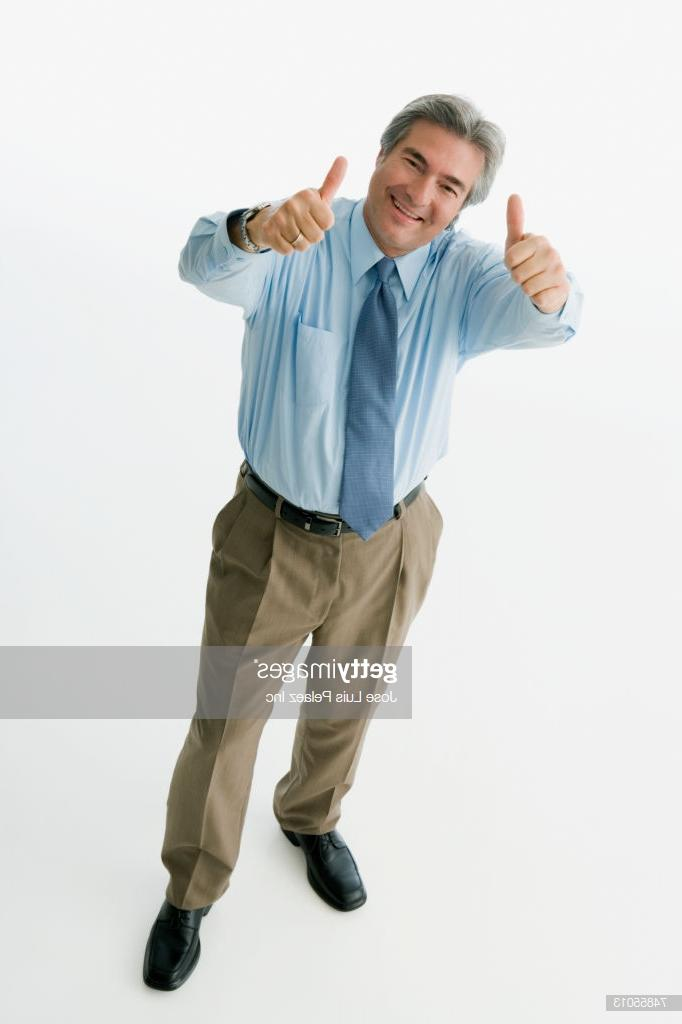thumbsup: (263, 156, 348, 255), (504, 194, 570, 312)
